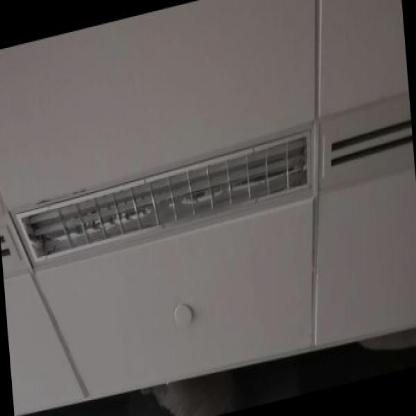light_off: (9, 96, 328, 288)
